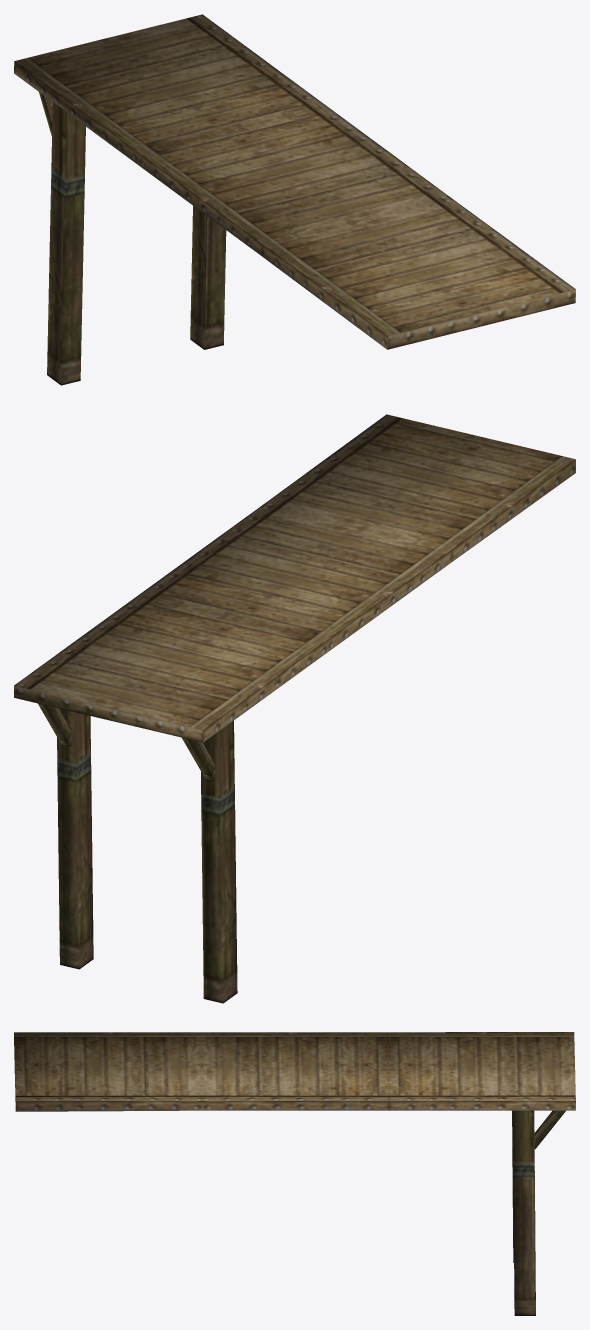
File: S_Build_West044.FBX
The picture shows the model from 3 angles, top to bottom: view 1: azimuth 30°, elevation 25°; view 2: azimuth 150°, elevation 25°; view 3: azimuth 270°, elevation 25°; orthographic projection. The views are drawn at different scales.
Parts seen in each view (by area): view 1: S_Build_West044; view 2: S_Build_West044; view 3: S_Build_West044.
Part boxes in pixels (x1,y1,x2,y2): S_Build_West044: [14, 14, 575, 385]; S_Build_West044: [14, 414, 575, 1003]; S_Build_West044: [14, 1032, 575, 1315].
Bounding box in the file's own units: 310 × 1057 × 460.
